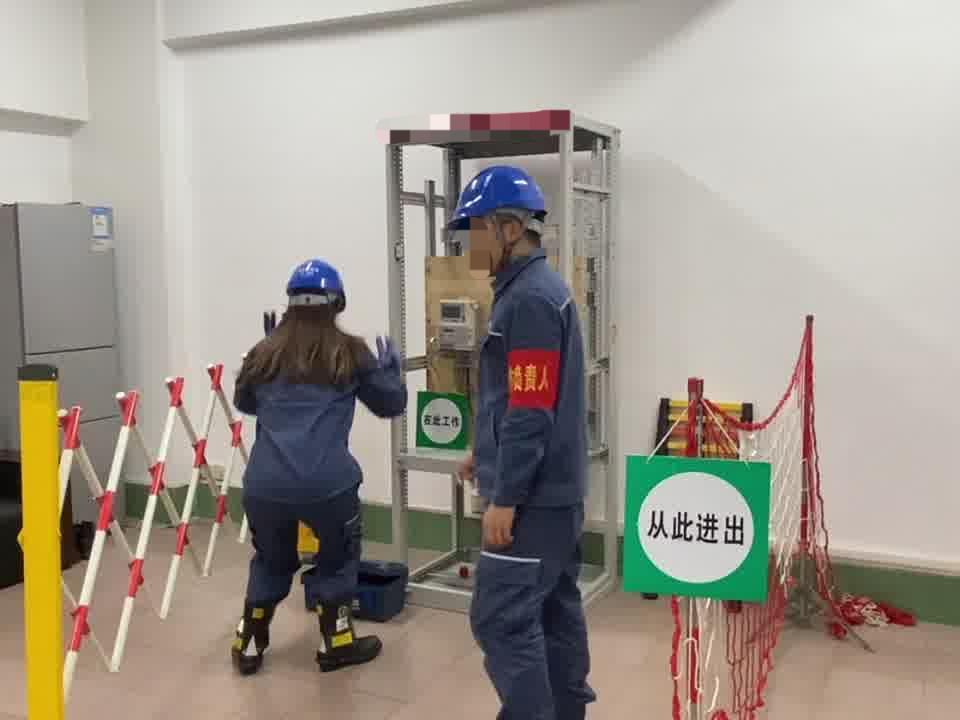halt: (450, 164, 554, 273)
inear: (490, 211, 535, 258)
